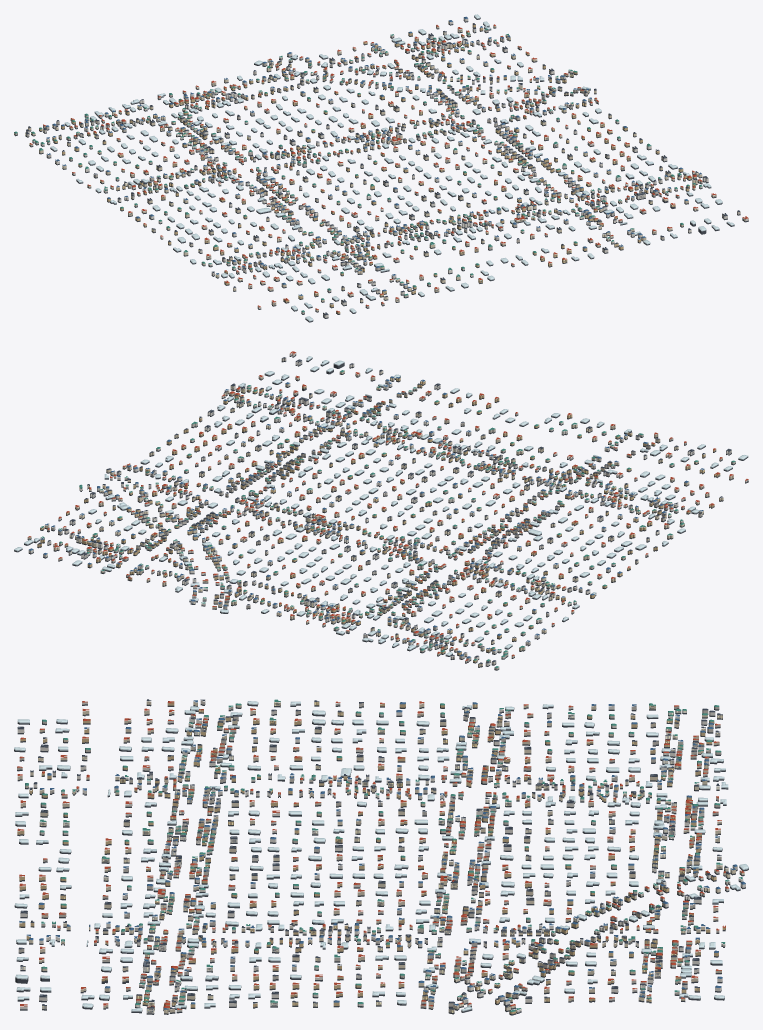
The model's file is osm_buildings_T_W02_N01.glb.
3 renders of one model, top to bottom at view 1: azimuth 30°, elevation 25°; view 2: azimuth 150°, elevation 25°; view 3: azimuth 270°, elevation 25°, orthographic. The views are drawn at different scales.
Visible parts, largest first — view 1: OSM_T_W02_N01_foundation, OSM_T_W02_N01_greenhouse_blend, OSM_T_W02_N01_wall_cream_stucco, OSM_T_W02_N01_wall_french_ochre, OSM_T_W02_N01_wall_warm_white, OSM_T_W02_N01_wall_pastel_sand, OSM_T_W02_N01_roof_terracotta, OSM_T_W02_N01_roof_mansard_slate, OSM_T_W02_N01_roof_alpine_blue, OSM_T_W02_N01_roof_mint_metal; view 2: OSM_T_W02_N01_foundation, OSM_T_W02_N01_greenhouse_blend, OSM_T_W02_N01_wall_cream_stucco, OSM_T_W02_N01_wall_french_ochre, OSM_T_W02_N01_wall_warm_white, OSM_T_W02_N01_wall_pastel_sand, OSM_T_W02_N01_roof_terracotta, OSM_T_W02_N01_roof_mansard_slate, OSM_T_W02_N01_roof_alpine_blue, OSM_T_W02_N01_roof_mint_metal; view 3: OSM_T_W02_N01_foundation, OSM_T_W02_N01_greenhouse_blend, OSM_T_W02_N01_wall_cream_stucco, OSM_T_W02_N01_wall_french_ochre, OSM_T_W02_N01_wall_warm_white, OSM_T_W02_N01_wall_pastel_sand, OSM_T_W02_N01_roof_terracotta, OSM_T_W02_N01_roof_mansard_slate, OSM_T_W02_N01_roof_alpine_blue, OSM_T_W02_N01_roof_mint_metal, OSM_T_W02_N01_roof_mansard_deck, OSM_T_W02_N01_glass_blend_85.
Boxes of the visible parts, <box> form: OSM_T_W02_N01_foundation: <box>14,16,748,322</box>; OSM_T_W02_N01_greenhouse_blend: <box>50,14,734,321</box>; OSM_T_W02_N01_wall_cream_stucco: <box>28,25,716,311</box>; OSM_T_W02_N01_wall_french_ochre: <box>39,23,695,313</box>; OSM_T_W02_N01_wall_warm_white: <box>26,18,748,317</box>; OSM_T_W02_N01_wall_pastel_sand: <box>14,29,740,313</box>; OSM_T_W02_N01_roof_terracotta: <box>30,24,748,312</box>; OSM_T_W02_N01_roof_mansard_slate: <box>25,23,739,315</box>; OSM_T_W02_N01_roof_alpine_blue: <box>46,16,701,295</box>; OSM_T_W02_N01_roof_mint_metal: <box>14,28,701,312</box>; OSM_T_W02_N01_foundation: <box>14,355,748,670</box>; OSM_T_W02_N01_greenhouse_blend: <box>14,356,748,655</box>; OSM_T_W02_N01_wall_cream_stucco: <box>27,371,733,666</box>; OSM_T_W02_N01_wall_french_ochre: <box>37,378,720,662</box>; OSM_T_W02_N01_wall_warm_white: <box>28,353,748,665</box>; OSM_T_W02_N01_wall_pastel_sand: <box>40,358,735,669</box>; OSM_T_W02_N01_roof_terracotta: <box>28,351,748,660</box>; OSM_T_W02_N01_roof_mansard_slate: <box>37,357,731,664</box>; OSM_T_W02_N01_roof_alpine_blue: <box>29,376,704,657</box>; OSM_T_W02_N01_roof_mint_metal: <box>40,370,735,667</box>; OSM_T_W02_N01_foundation: <box>14,703,748,1015</box>; OSM_T_W02_N01_greenhouse_blend: <box>14,701,748,1011</box>; OSM_T_W02_N01_wall_cream_stucco: <box>17,701,744,1013</box>; OSM_T_W02_N01_wall_french_ochre: <box>17,702,725,1014</box>; OSM_T_W02_N01_wall_warm_white: <box>17,702,745,1013</box>; OSM_T_W02_N01_wall_pastel_sand: <box>17,700,737,1009</box>; OSM_T_W02_N01_roof_terracotta: <box>17,701,744,1009</box>; OSM_T_W02_N01_roof_mansard_slate: <box>17,699,730,1009</box>; OSM_T_W02_N01_roof_alpine_blue: <box>19,700,745,1009</box>; OSM_T_W02_N01_roof_mint_metal: <box>25,699,742,1011</box>; OSM_T_W02_N01_roof_mansard_deck: <box>18,719,700,1001</box>; OSM_T_W02_N01_glass_blend_85: <box>21,704,731,1012</box>.
Size of the model in its own units: 1941 by 46.82 by 1952.
